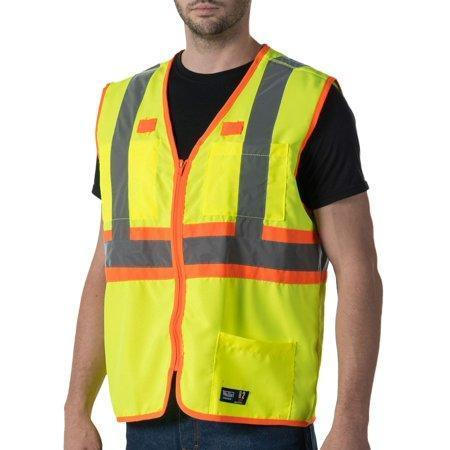vest: (93, 41, 345, 430)
